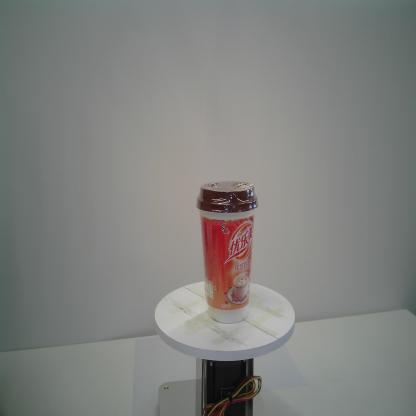Instant Drink: (195, 180, 258, 324)
